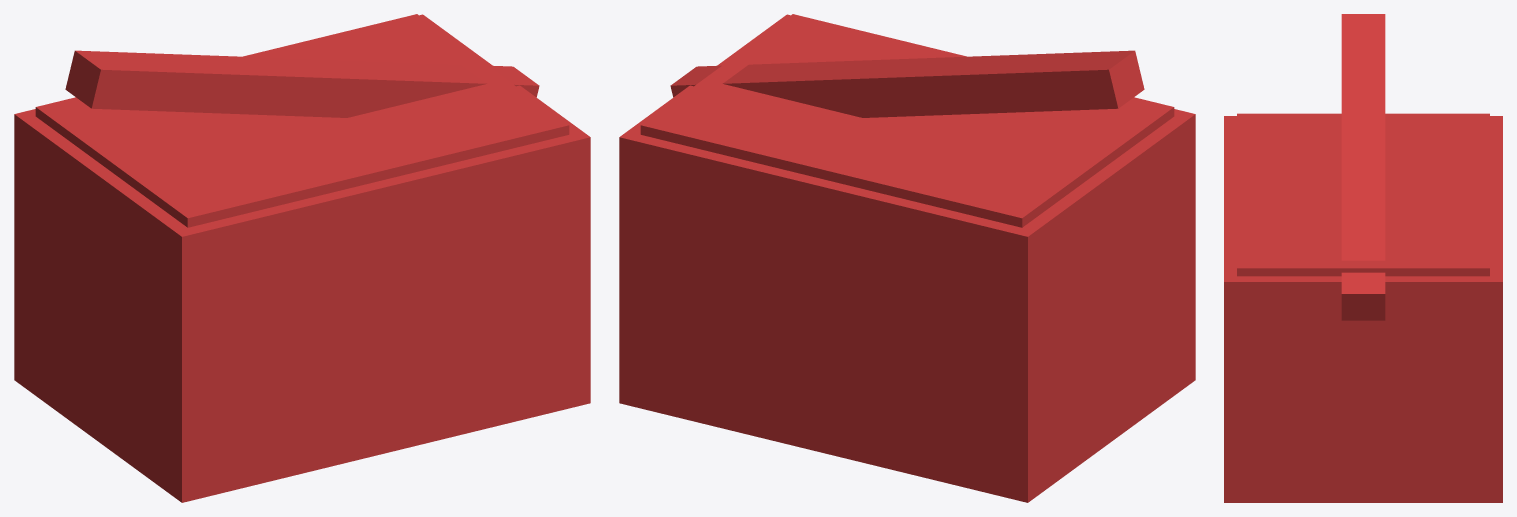
Rendered from f_basket.glb.
The picture shows the model from 3 angles, left to right: view 1: azimuth 30°, elevation 25°; view 2: azimuth 150°, elevation 25°; view 3: azimuth 270°, elevation 25°; orthographic projection. The views are drawn at different scales.
Visible parts, largest first — view 1: f_basket; view 2: f_basket; view 3: f_basket.
Part boxes in pixels (box(x1,y1,x2,y2)): f_basket: box(14, 14, 590, 502); f_basket: box(619, 14, 1195, 502); f_basket: box(1224, 14, 1502, 502).
Bounding box in the file's own units: 0.4933 × 0.404 × 0.32.
